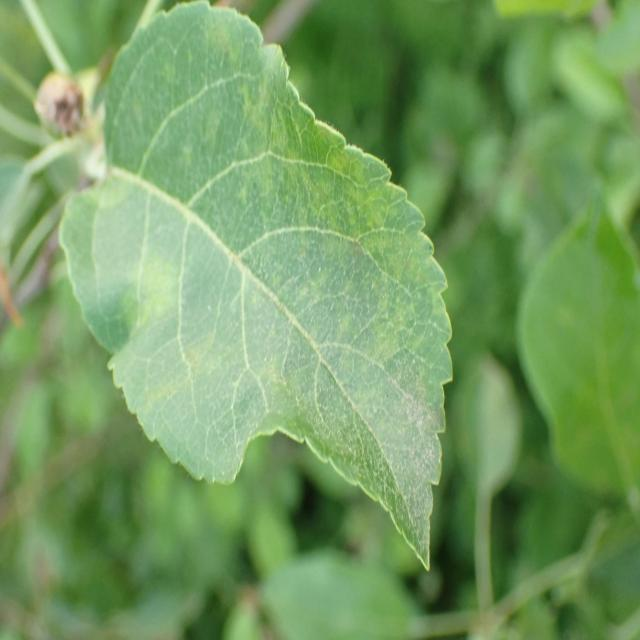scab: (102, 19, 443, 532)
